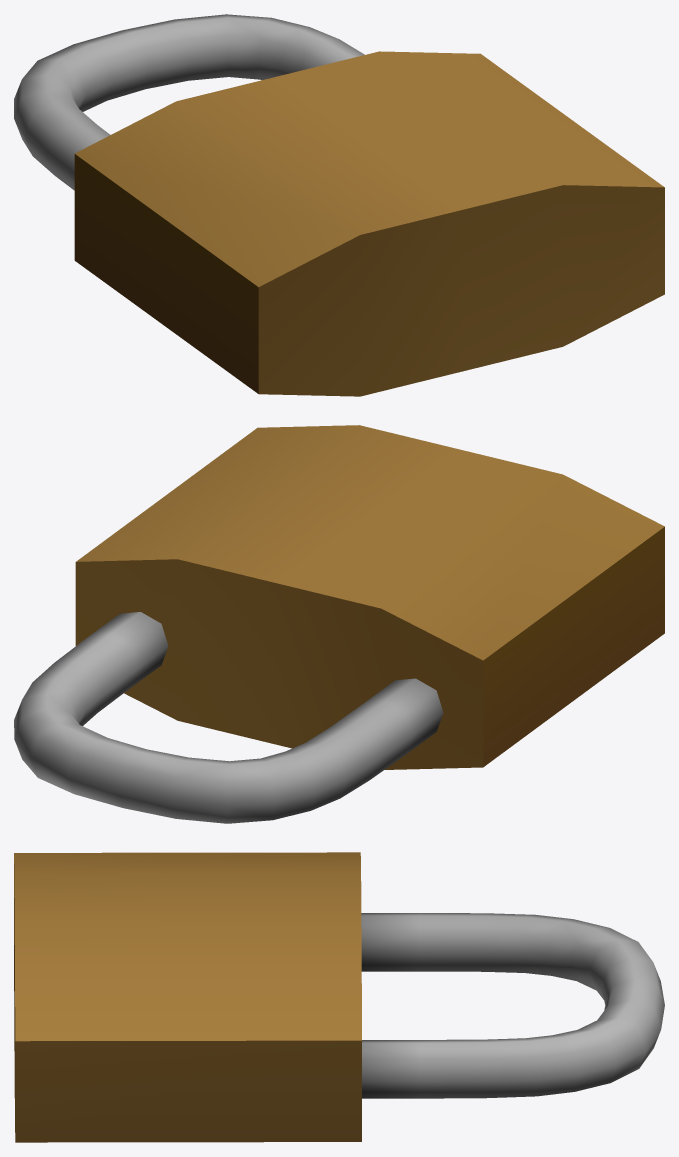
The model's file is human-household-items-padlock_v1.glb.
The picture shows the model from 3 angles, top to bottom: view 1: azimuth 30°, elevation 25°; view 2: azimuth 150°, elevation 25°; view 3: azimuth 270°, elevation 25°; orthographic projection. The views are drawn at different scales.
Visible parts, largest first — view 1: Padlock.001; view 2: Padlock.001; view 3: Padlock.001.
Part boxes in pixels (bbox=[...]): Padlock.001: bbox=[14, 14, 664, 396]; Padlock.001: bbox=[14, 425, 664, 823]; Padlock.001: bbox=[14, 852, 664, 1142].
Bounding box in the file's own units: 0.0549 × 0.0208 × 0.08.
